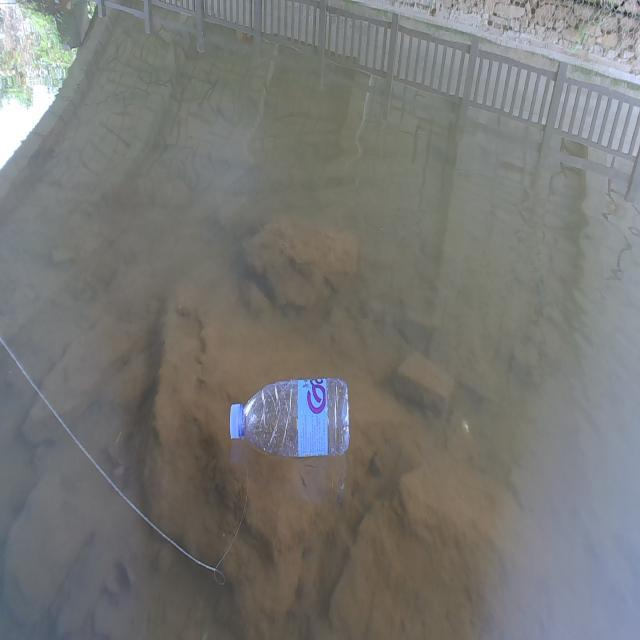garbage: (229, 376, 351, 458)
